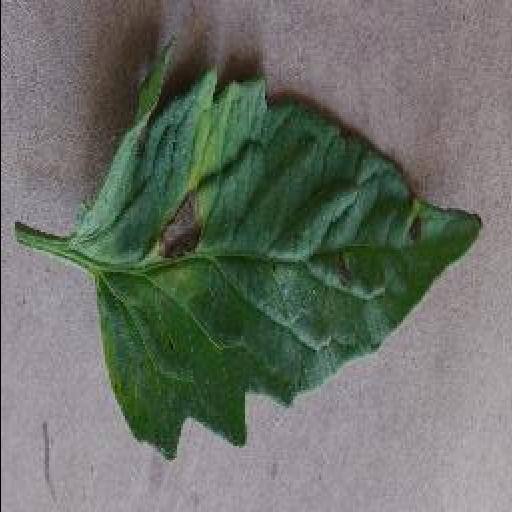Early Blight: (74, 60, 488, 462)
